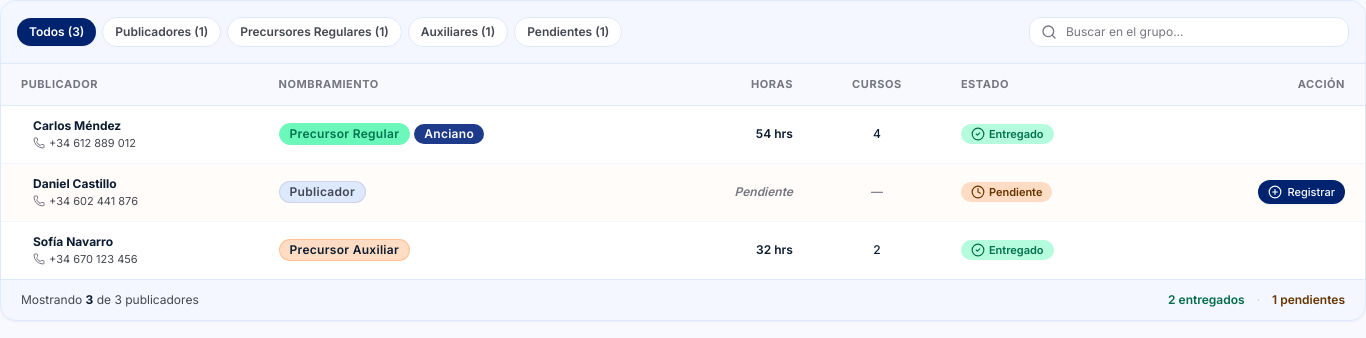
PublishersTable organism › filtra por estado pendiente al hacer click en la píldora Pendientes
Click the button "Pendientes (1)". click: (568, 32)
box: top-left (514, 17), bottom-right (622, 47)
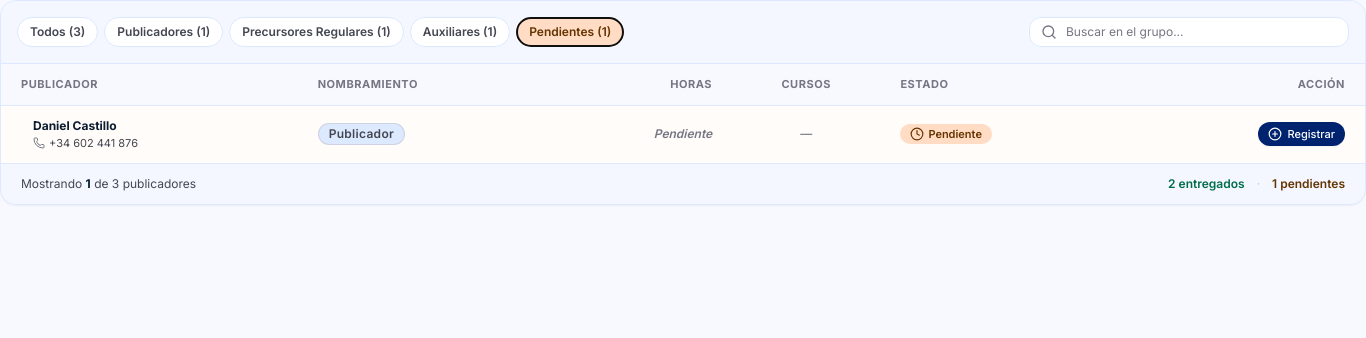
Expected: the text "Daniel Castillo" is shown, top-left (33, 118), bottom-right (117, 132)
Expected: the text "Carlos Méndez" is gone
Expected: the text "Sofía Navarro" is gone
